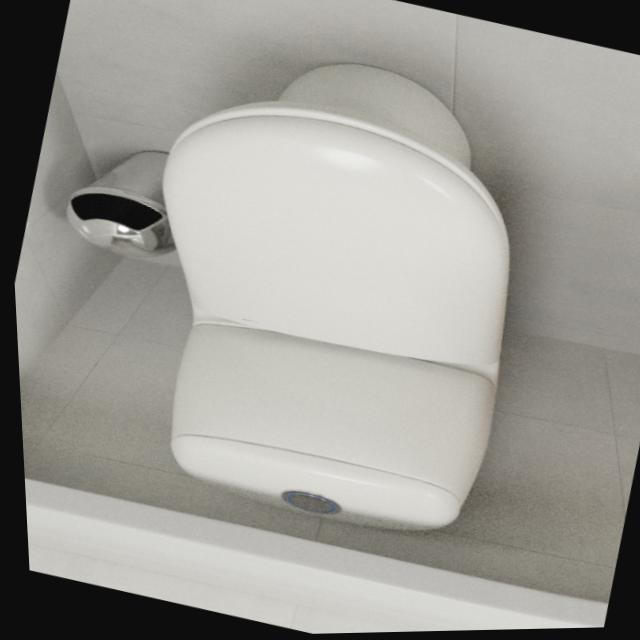toilet: (80, 20, 570, 560)
